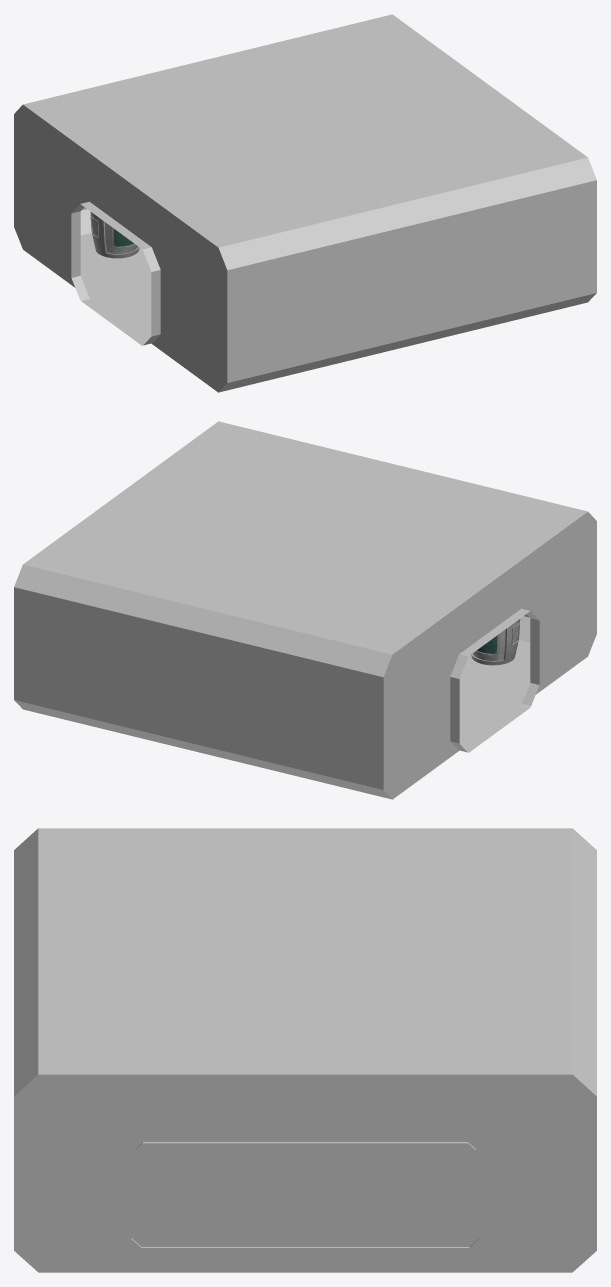
The model's file is PodRoom - Texture.gltf.
3 renders of one model, top to bottom at view 1: azimuth 30°, elevation 25°; view 2: azimuth 150°, elevation 25°; view 3: azimuth 270°, elevation 25°, orthographic. The views are drawn at different scales.
Visible parts, largest first — view 1: Room, Pod1; view 2: Room, Pod6; view 3: Room.
Boxes of the visible parts, bbox=[...] form: Room: bbox=[14, 14, 596, 392]; Pod1: bbox=[90, 212, 139, 258]; Room: bbox=[14, 421, 596, 799]; Pod6: bbox=[471, 619, 520, 665]; Room: bbox=[14, 828, 596, 1272].
Size of the model in its own units: 8.2 by 3.03 by 8.
